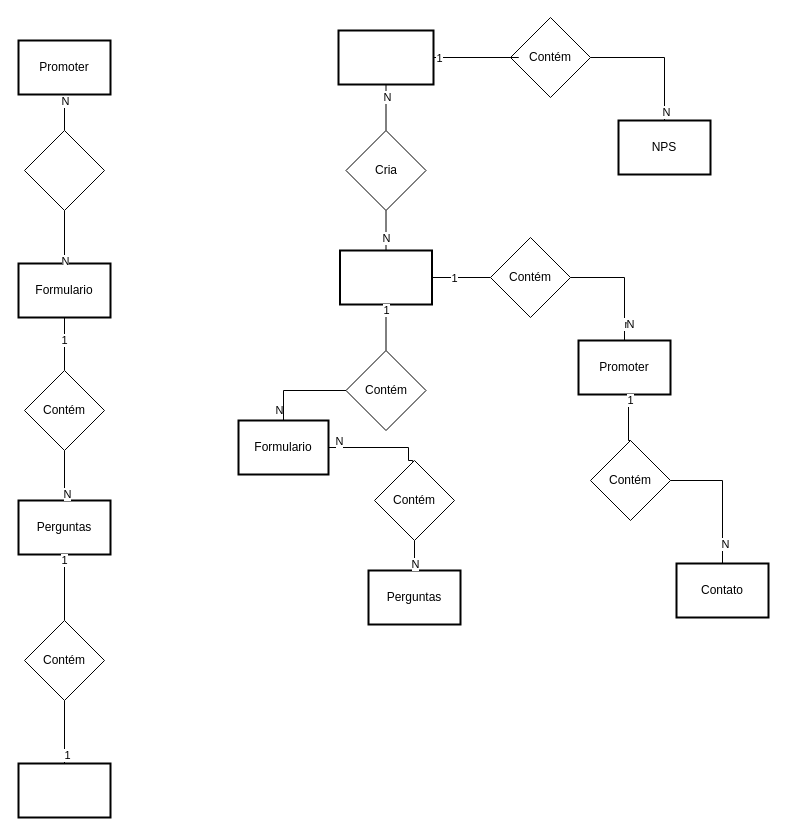
The diagram is 786 pixels wide and 836 high, and some of its shapes have lost their labels. The shapes that lost their labels are listed below. From the top down, each one's centre as x and y in pixels, then its label:
At (385,57): "Empresa".
At (64,170): "Resposnde".
At (385,277): "Plano".
At (64,790): "Resposta".
